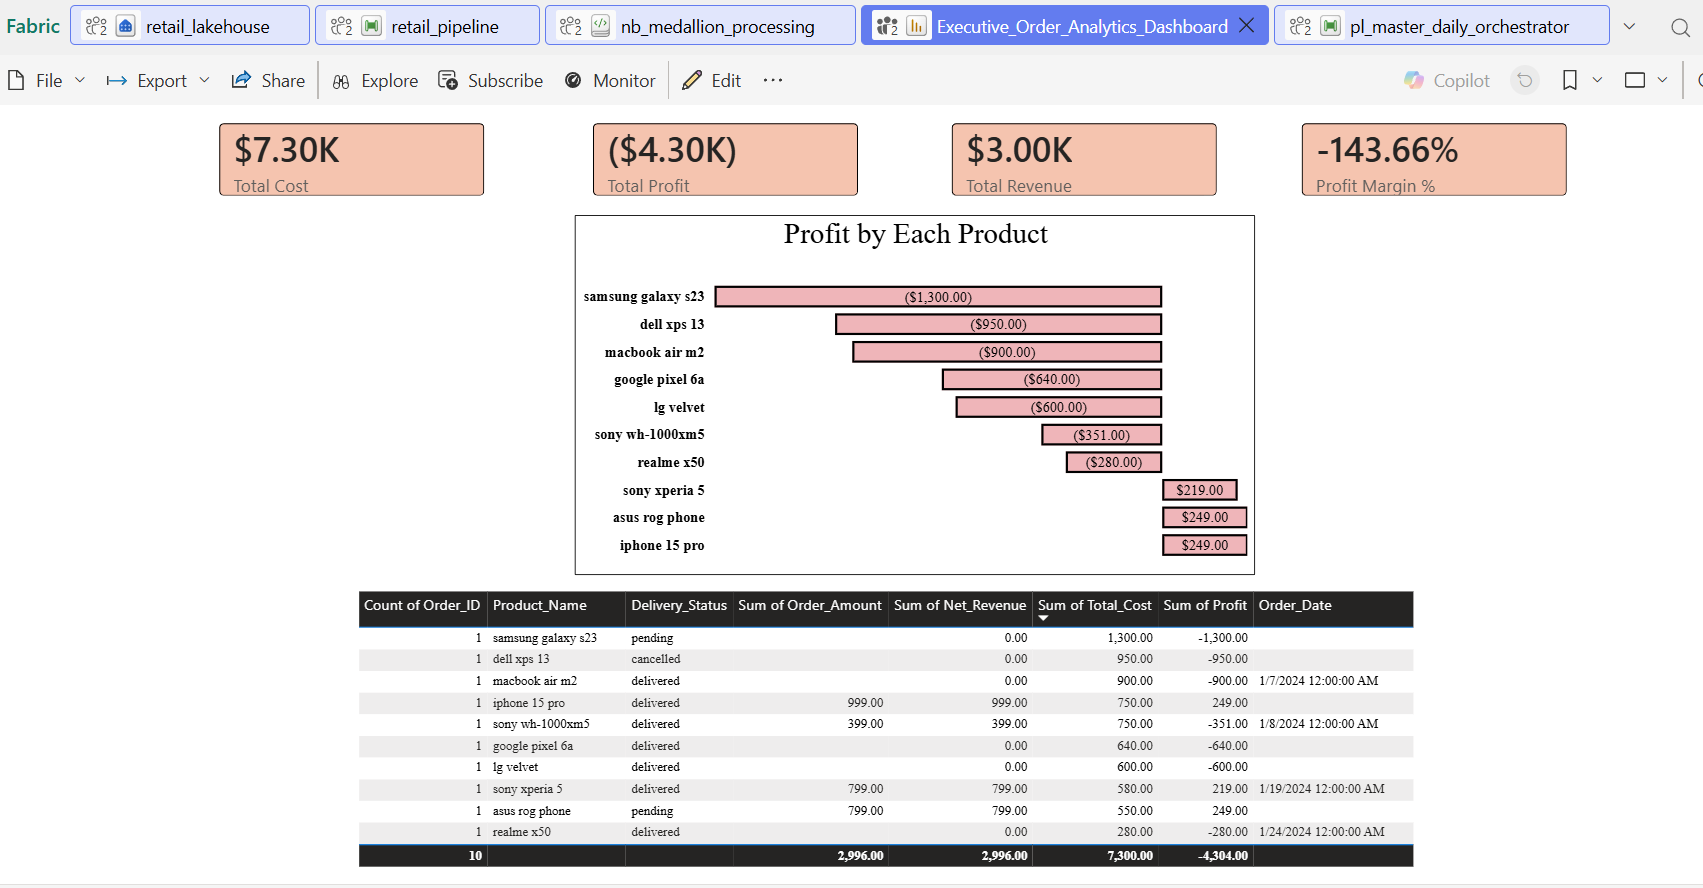

The page's visual inventory and layout, read from the dashboard file:
{"tool":"powerbi","page":{"name":"Page 1","canvas":[1280,720],"ordinal":0},"visuals":[{"type":"cardVisual","fields":{"Data":["gold_order_analytics.Total Cost"]},"box":[0,0,279.9,101.8],"z":0},{"type":"cardVisual","fields":{"Data":["gold_order_analytics.Total Profit"]},"box":[344.9,0,279.9,101.8],"z":1000},{"type":"cardVisual","fields":{"Data":["gold_order_analytics.Total Revenue"]},"box":[677,0,279.9,101.8],"z":2000},{"type":"cardVisual","fields":{"Data":["gold_order_analytics.Profit Margin %"]},"box":[1000.7,0,279.9,101.8],"z":3000},{"type":"clusteredBarChart","title":"Profit by Each Product","fields":{"Category":["gold_order_analytics.Product_Name"],"Y":["gold_order_analytics.Total Profit"]},"box":[344.9,102.1,629.1,333],"z":3001},{"type":"tableEx","fields":{"Values":["CountNonNull(gold_order_analytics.Order_ID)","gold_order_analytics.Product_Name","gold_order_analytics.Delivery_Status","Sum(gold_order_analytics.Order_Amount)","Sum(gold_order_analytics.Net_Revenue)","Sum(gold_order_analytics.Total_Cost)","Sum(gold_order_analytics.Profit)","gold_order_analytics.Order_Date"]},"box":[139.5,444.4,998.6,275.2],"z":3002}]}

Visuals, with their boxes on the page's 1280x720 design canvas (x1, y1, x2, y2). These are canvas units, not pixel positions in the 1703x888 screenshot, which may show the page scaled, cropped or inside an application window:
cardVisual - gold_order_analytics.Total Cost: Rect(0, 0, 280, 102)
cardVisual - gold_order_analytics.Total Profit: Rect(345, 0, 625, 102)
cardVisual - gold_order_analytics.Total Revenue: Rect(677, 0, 957, 102)
cardVisual - gold_order_analytics.Profit Margin %: Rect(1001, 0, 1281, 102)
"Profit by Each Product" clusteredBarChart: Rect(345, 102, 974, 435)
tableEx - CountNonNull(gold_order_analytics.Order_ID) x gold_order_analytics.Product_Name: Rect(140, 444, 1138, 720)
